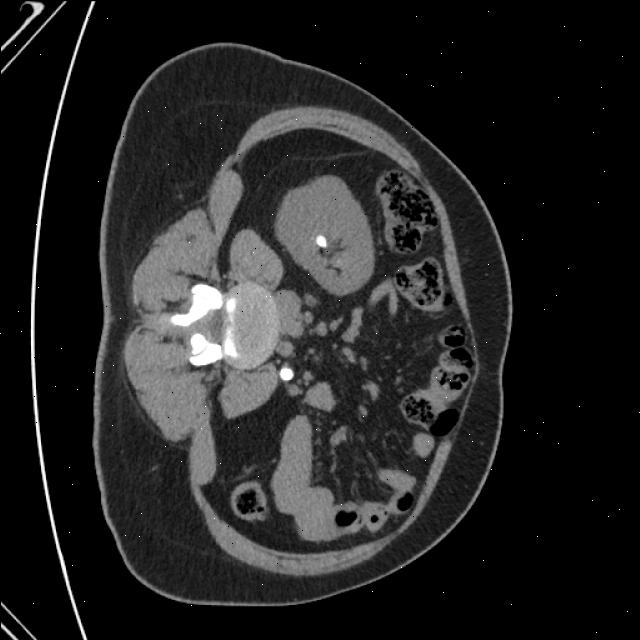kidneystone: (279, 368, 292, 380), (316, 235, 326, 248)
